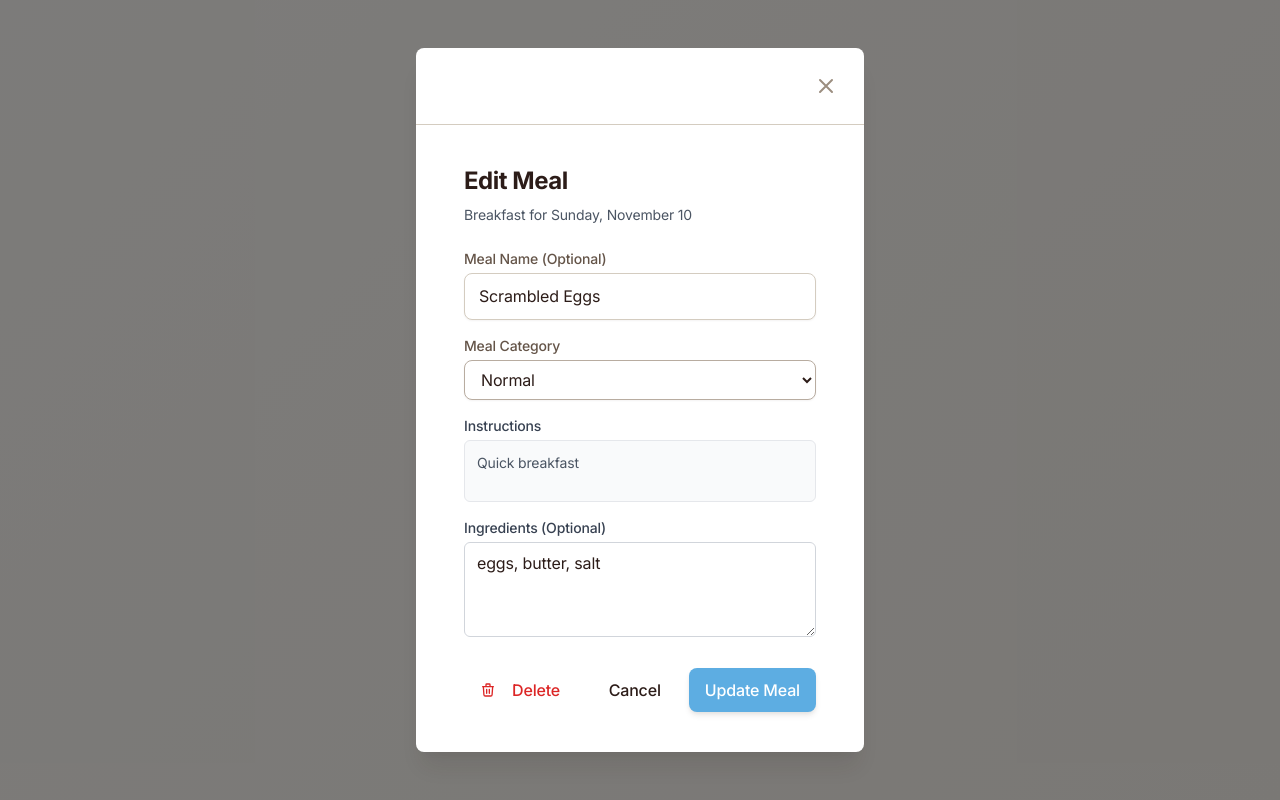
Scenario: AddMealModal - Delete Functionality › Edit Mode (meal provided) › shows loading state during deletion
This screenshot has width=1280, height=800.
Click the button "Delete" at (520, 690), box [464,668,576,712]
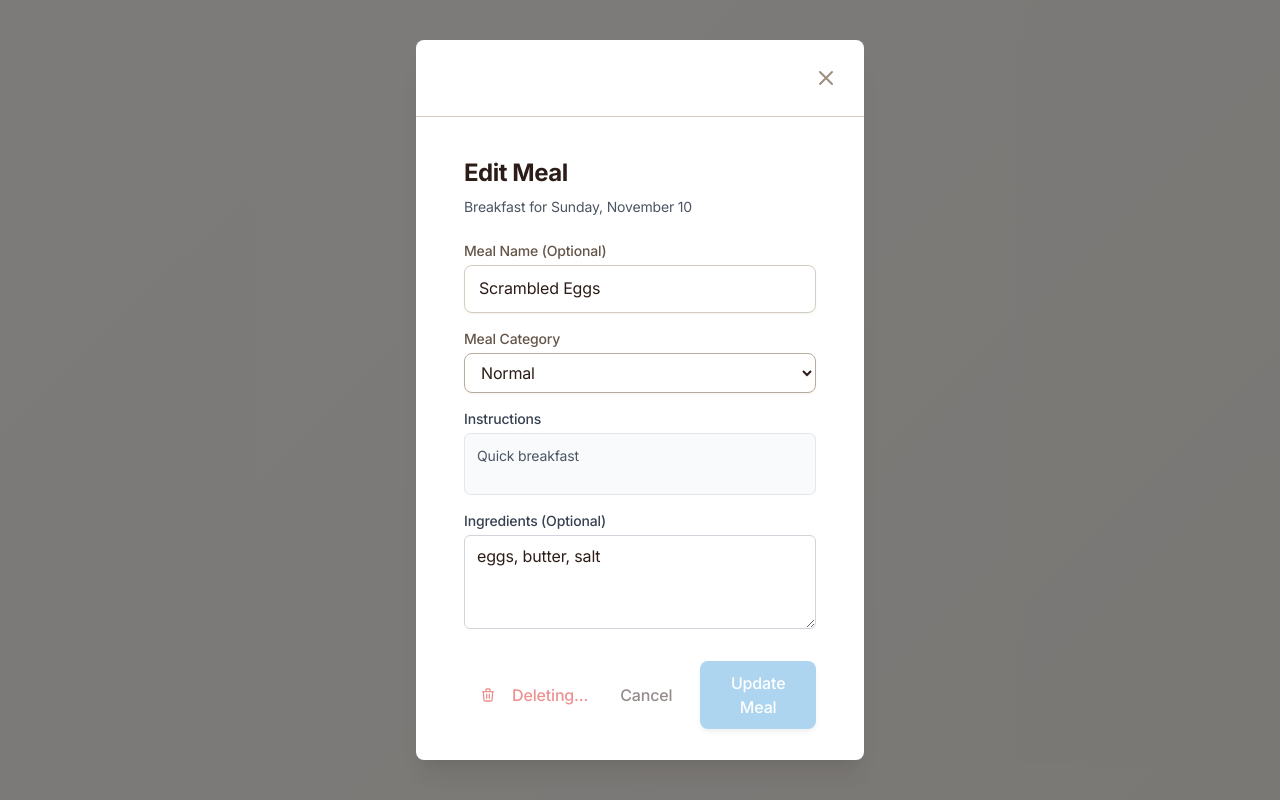
Expected: the button "Deleting..." is shown, [464,661,604,729]
Expected: the button "Cancel" is disabled, [604,661,688,729]
Expected: the button "Update Meal" is disabled, [700,661,816,729]
